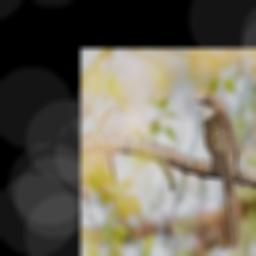Cuckoo: (194, 95, 240, 251)
